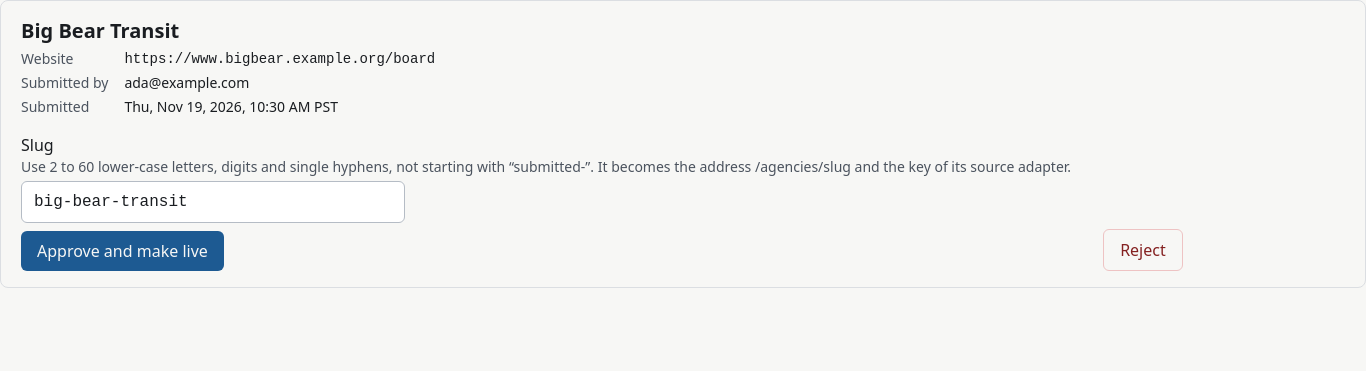
ReviewItem › explains unavailable
Click the button "Approve and make live" at (122, 251), box [21,231,224,271]
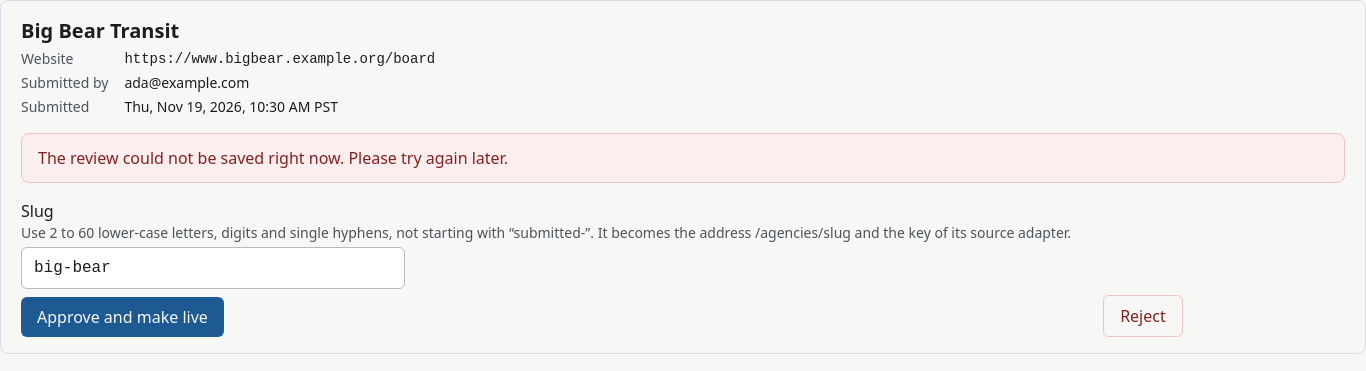
Check: the message shows "could not be saved", box [38,147,508,169]
